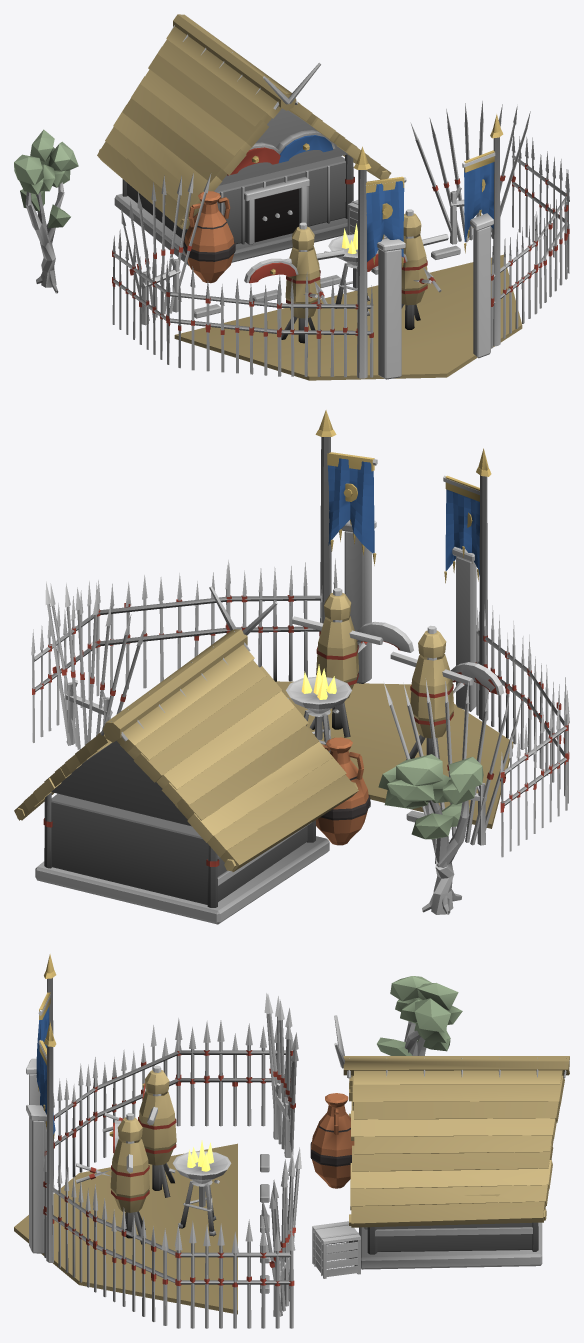
The model's file is javelin-camp-l1.glb.
3 renders of one model, top to bottom at view 1: azimuth 30°, elevation 25°; view 2: azimuth 150°, elevation 25°; view 3: azimuth 270°, elevation 25°, orthographic. The views are drawn at different scales.
Parts seen in each view (by area): view 1: javelin-camp-l1; view 2: javelin-camp-l1; view 3: javelin-camp-l1.
Part boxes in pixels (x1,y1,x2,y2): javelin-camp-l1: (14,14,569,380); javelin-camp-l1: (14,410,569,924); javelin-camp-l1: (14,954,569,1328).
Bounding box in the file's own units: 1.6 × 0.81 × 1.67.
